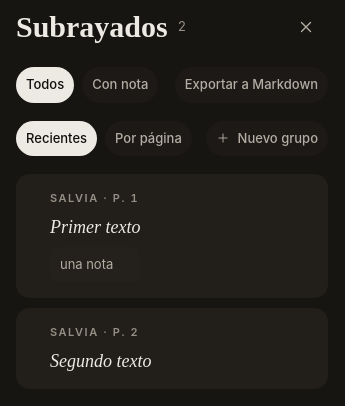
Test: HighlightsPanel › keeps only the highlights with a note
Click the button "Con nota". click: click(120, 85)
box: top-left (82, 67), bottom-right (158, 102)
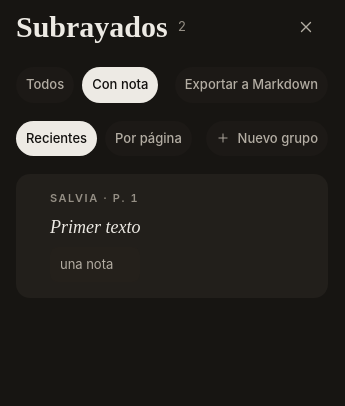
Expected: the text "Primer texto" is shown, top-left (50, 214), bottom-right (140, 239)
Now the button "Segundo texto" is gone
